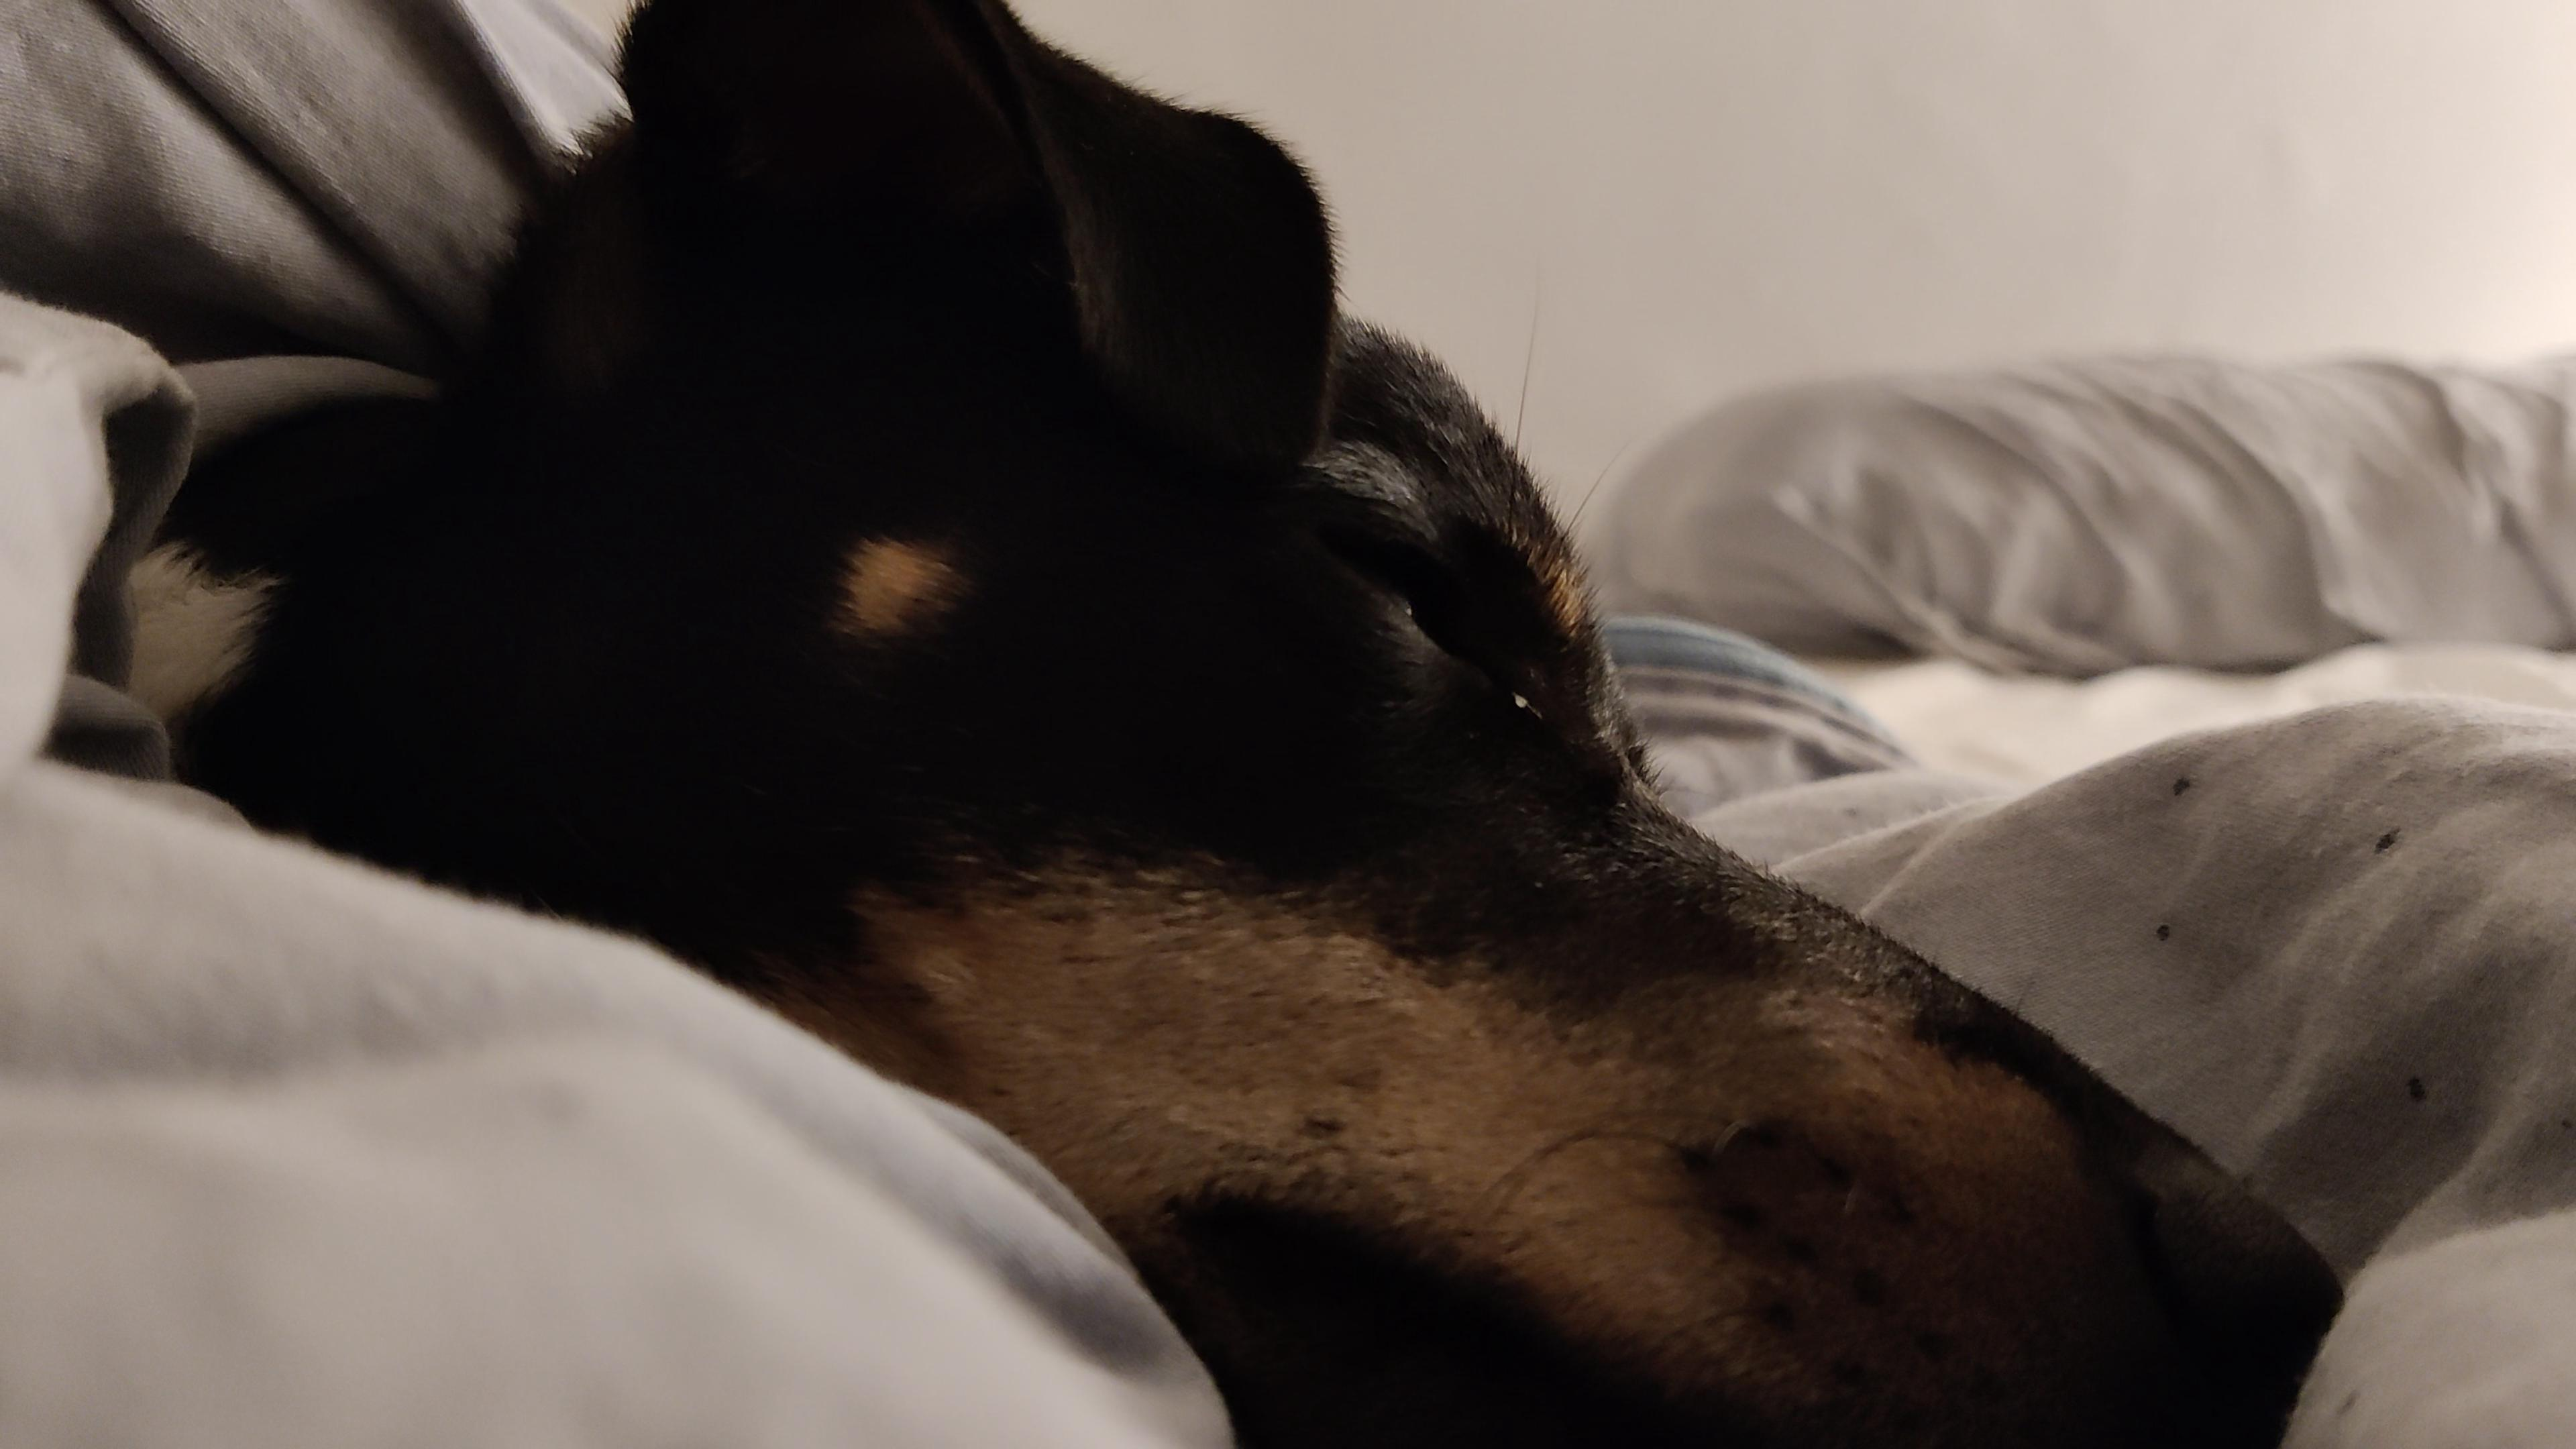Dog: (101, 0, 2374, 1449)
